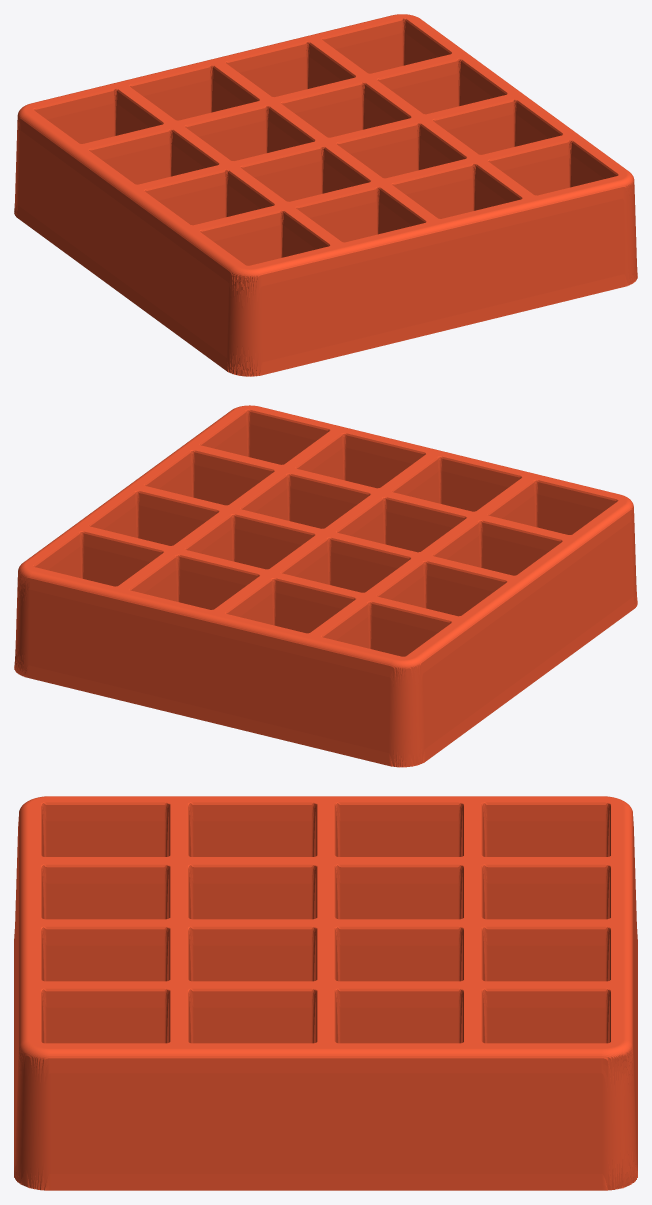
Rendered from mold.glb.
The picture shows the model from 3 angles, top to bottom: view 1: azimuth 30°, elevation 25°; view 2: azimuth 150°, elevation 25°; view 3: azimuth 270°, elevation 25°; orthographic projection. The views are drawn at different scales.
Visible parts, largest first — view 1: geometry_0; view 2: geometry_0; view 3: geometry_0.
Part boxes in pixels (left/top/right/bottom): geometry_0: left=14, top=14, right=637, bottom=376; geometry_0: left=14, top=405, right=637, bottom=767; geometry_0: left=14, top=796, right=637, bottom=1190.
Size of the model in its own units: 0.1569 by 0.0378 by 0.1569.
